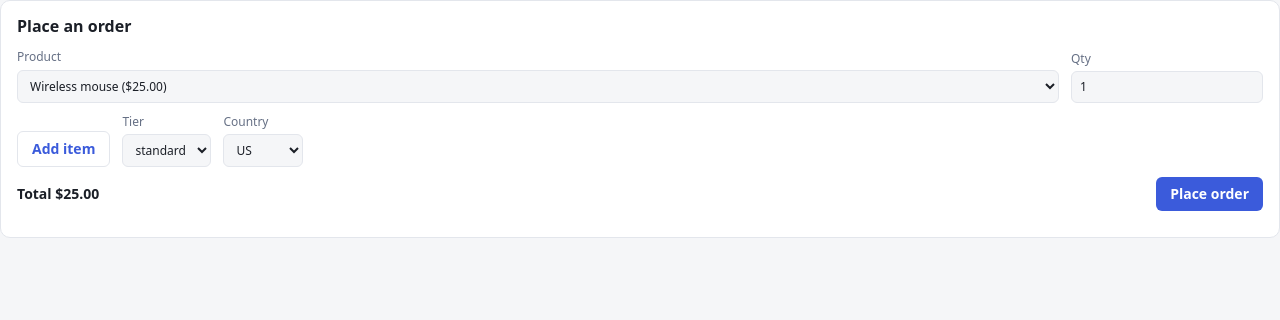
Scenario: OrderForm › adds and removes lines and totals them
Click the button "Add item" at (64, 149), box [17,131,110,167]
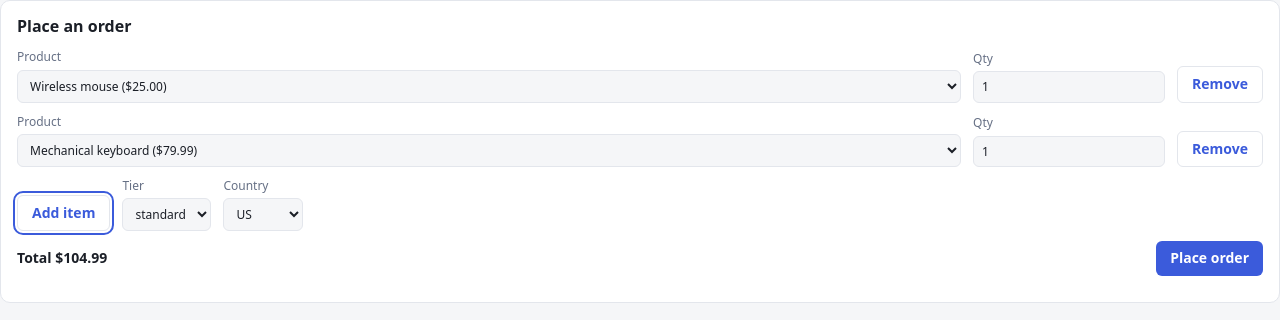
Now the number of dropdowns labelled "Product" is 2, box [17,70,961,103]; [17,134,961,167]
Now the text "Total $104.99" is shown, box [17,248,107,269]
Click the button with aria-label "Remove line 2" at (1220, 149), box [1177,131,1263,167]
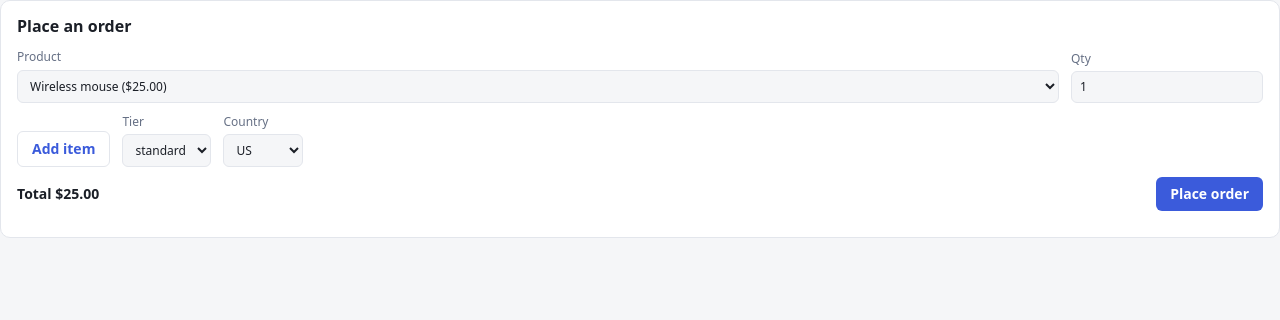
Now the number of dropdowns labelled "Product" is 1, box [17,70,1059,103]
